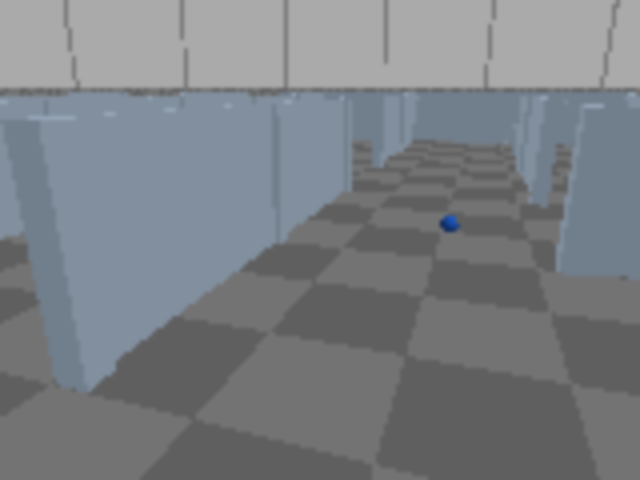puck: (437, 214, 462, 235)
